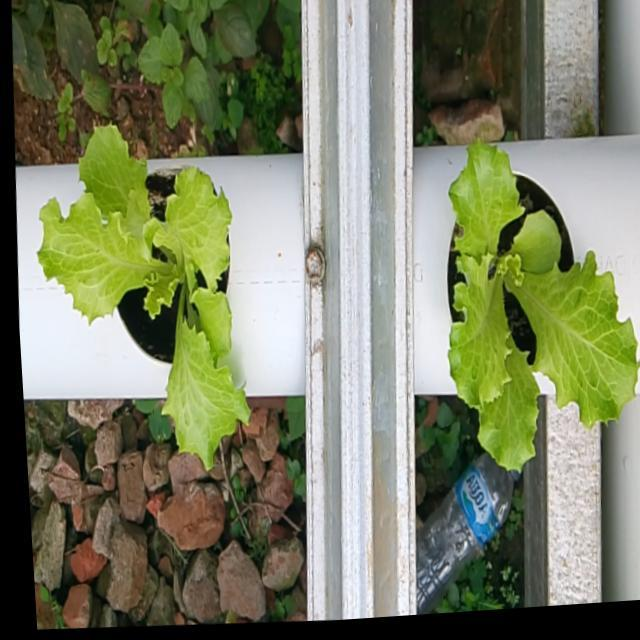Baby: (33, 123, 246, 468), (442, 140, 636, 473)
